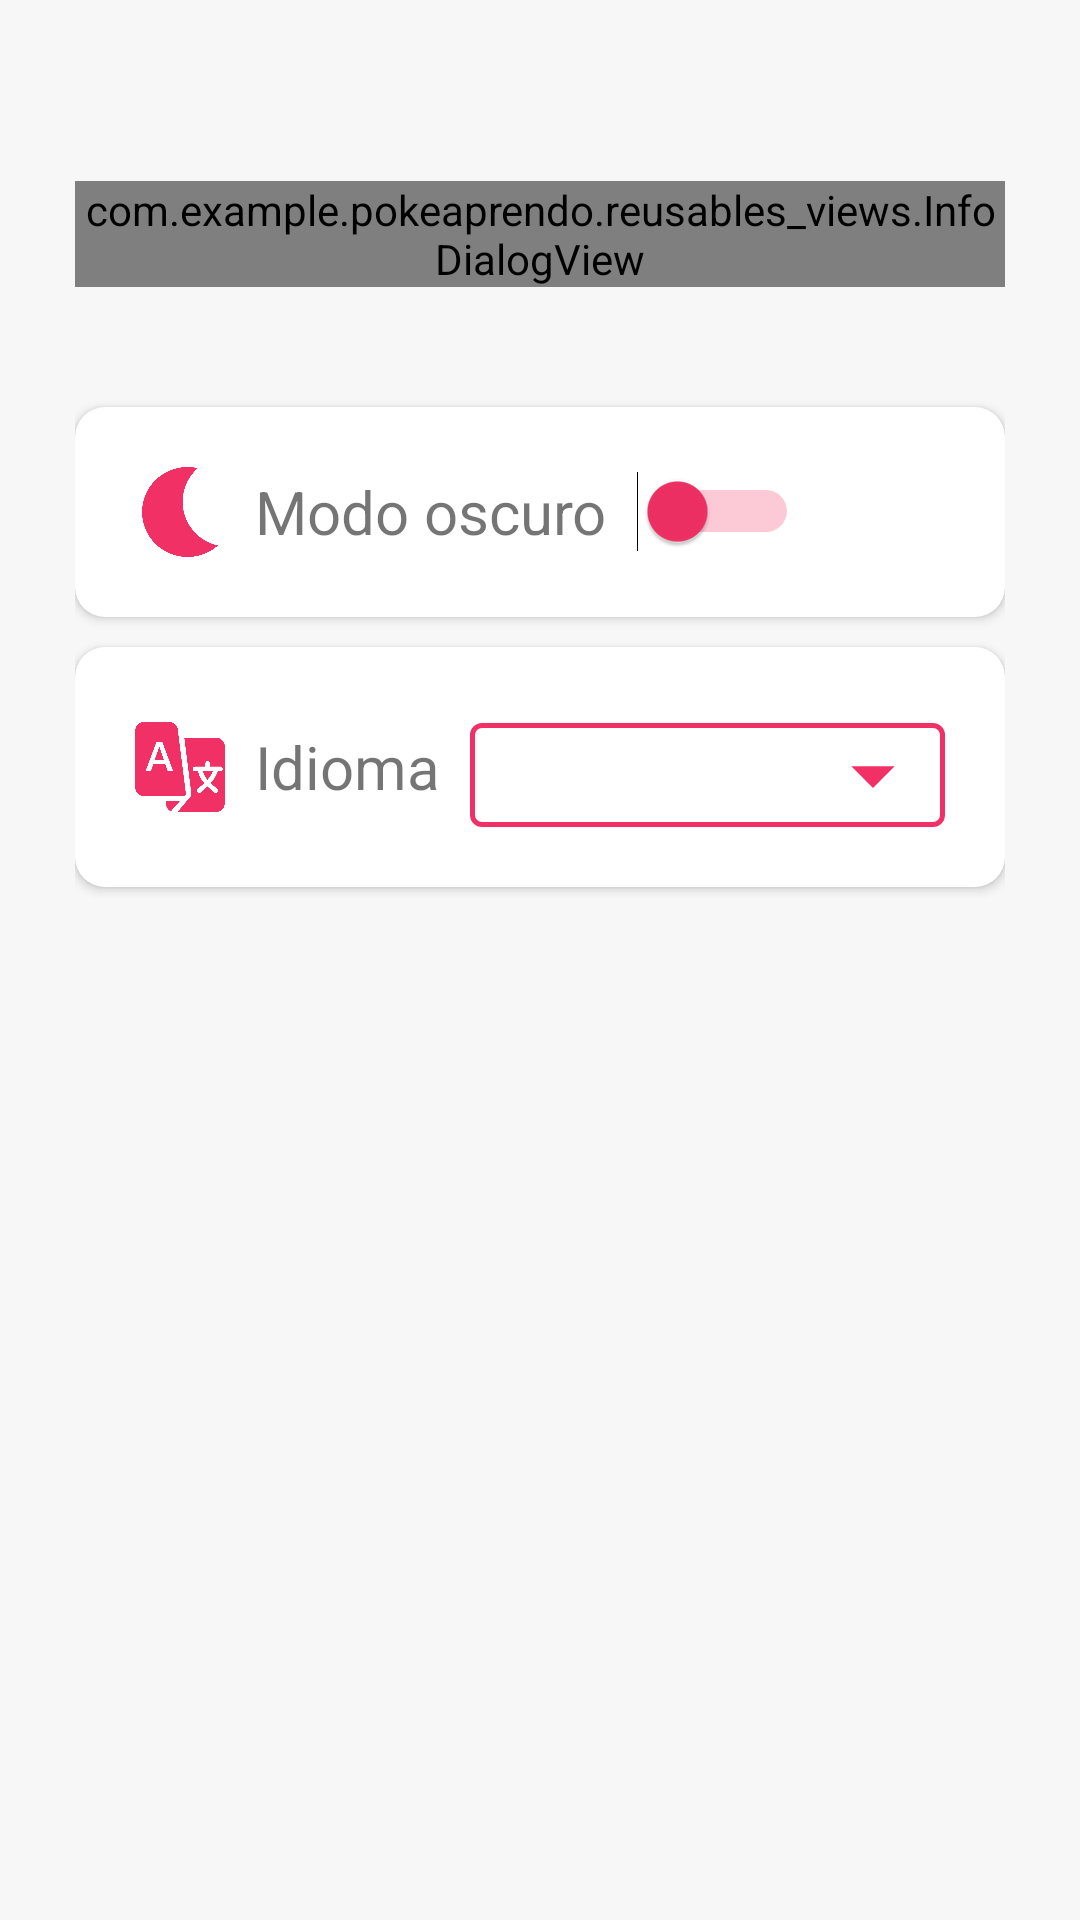

Icon click points for this 1080x1920 phone screenshot, format [x,y]:
language: [180,767]
mode: [180,512]
